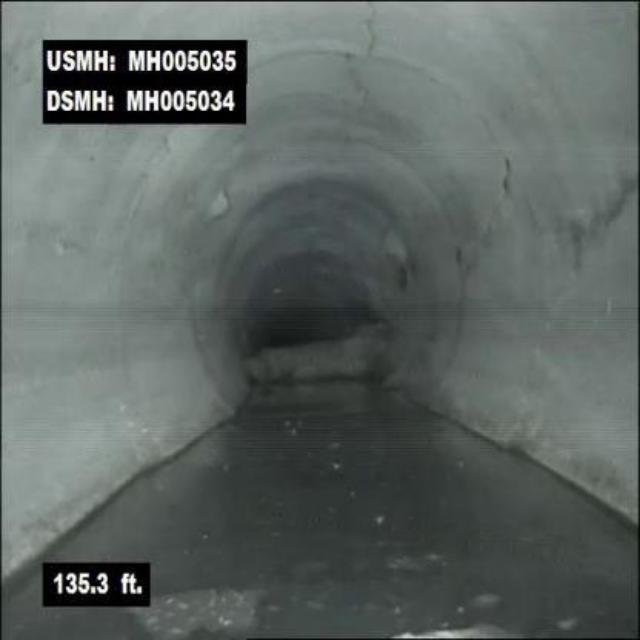Crack: (547, 175, 640, 281), (477, 158, 517, 260), (351, 0, 395, 57)
